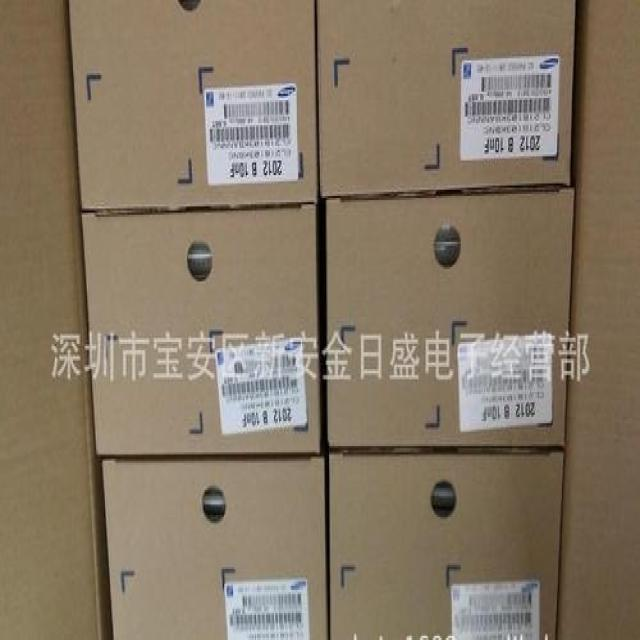Carton: (67, 0, 573, 452), (330, 454, 563, 638), (105, 457, 325, 638)
